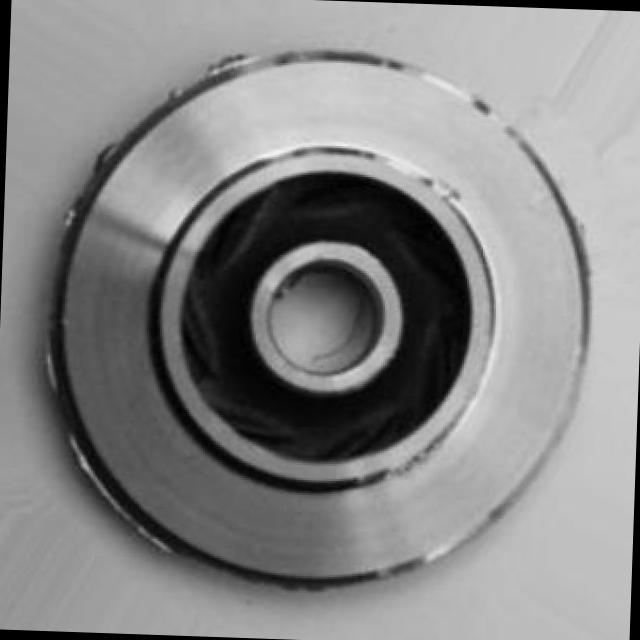Defect: (198, 36, 262, 88)
